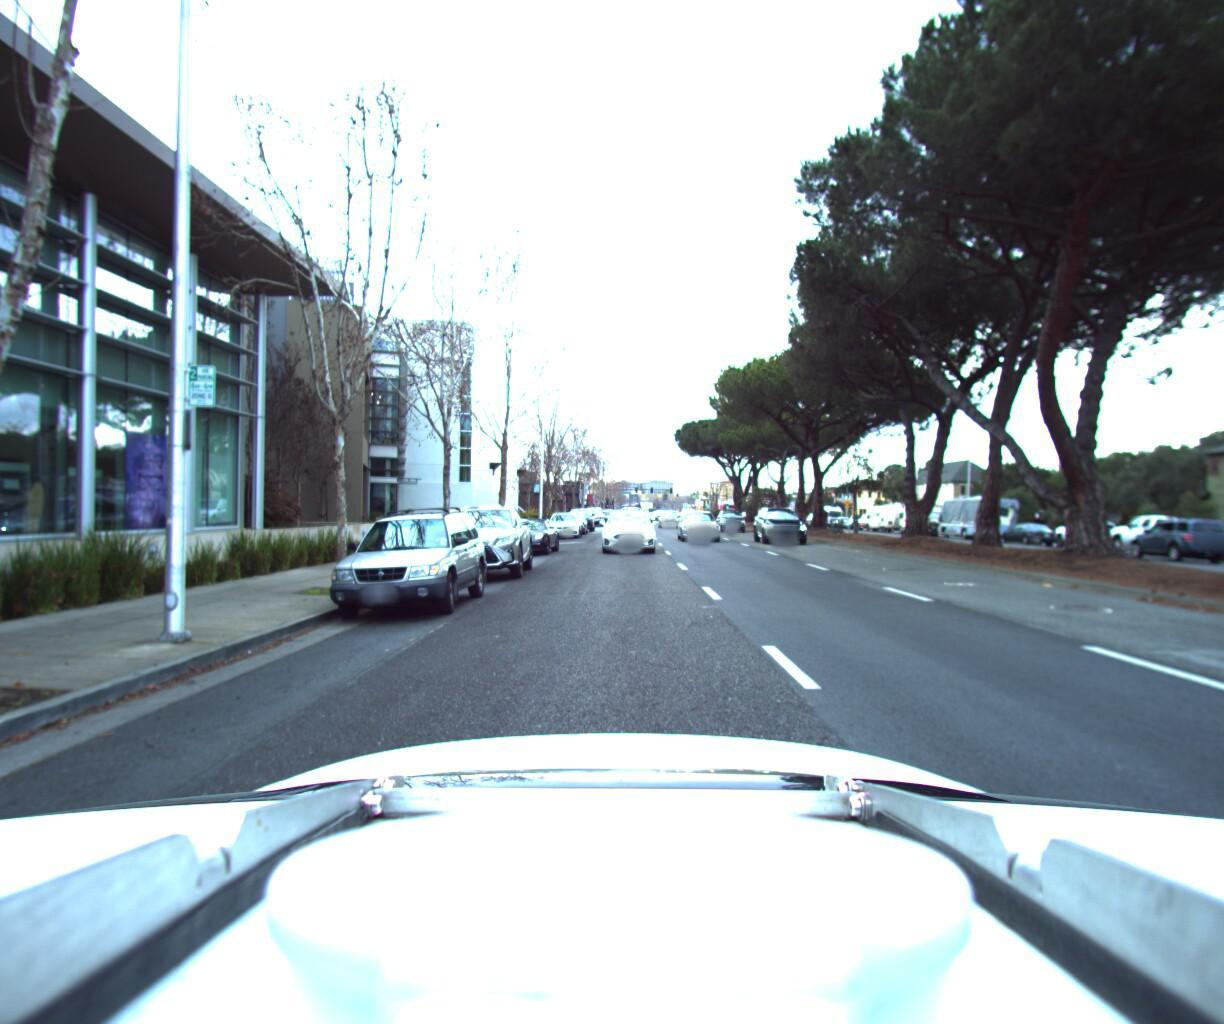car: (304, 498, 490, 628), (419, 496, 539, 584), (1103, 505, 1224, 557), (1101, 510, 1207, 557), (1047, 509, 1135, 547), (491, 509, 559, 553), (754, 498, 818, 542), (599, 501, 655, 551), (675, 502, 725, 542), (996, 513, 1059, 539), (543, 503, 583, 534), (716, 498, 748, 526), (564, 498, 595, 526), (615, 498, 645, 524), (582, 499, 606, 520)
other_vehicle: (935, 486, 1019, 534), (895, 491, 953, 528), (866, 493, 924, 527)
